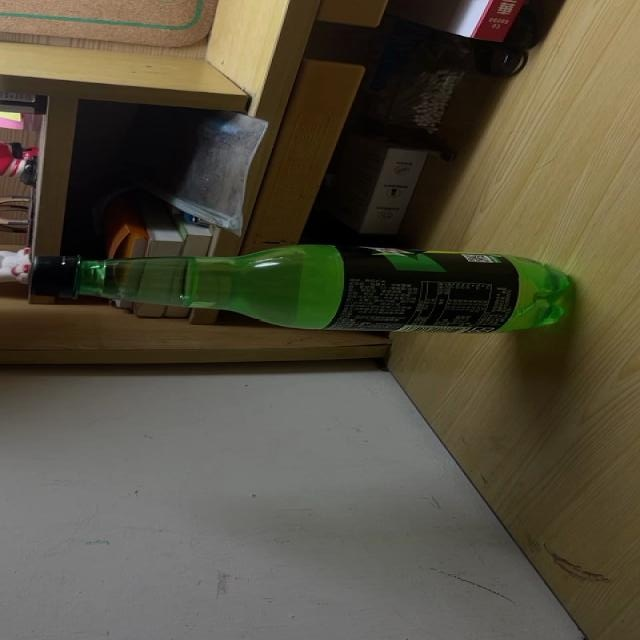Mountain-Dew: (28, 243, 574, 335)
